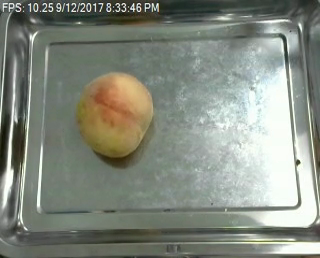Peach: (75, 70, 154, 158)
